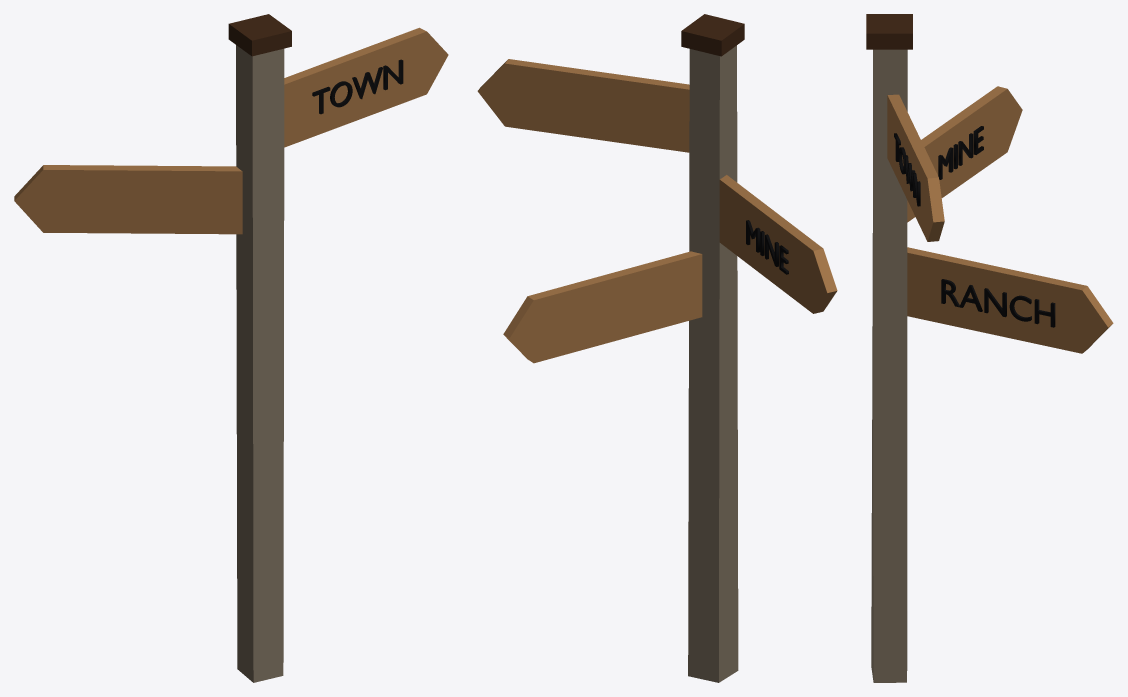
File: SM_Signpost.obj
3 renders of one model, left to right at view 1: azimuth 30°, elevation 25°; view 2: azimuth 150°, elevation 25°; view 3: azimuth 270°, elevation 25°, orthographic.
Visible parts, largest first — view 1: SM_Signpost; view 2: SM_Signpost; view 3: SM_Signpost.
Part boxes in pixels (<box>): SM_Signpost: <box>14,14,448,682</box>; SM_Signpost: <box>477,14,837,682</box>; SM_Signpost: <box>866,14,1113,682</box>.
Size of the model in its own units: 1.58 by 2.46 by 0.8466.
